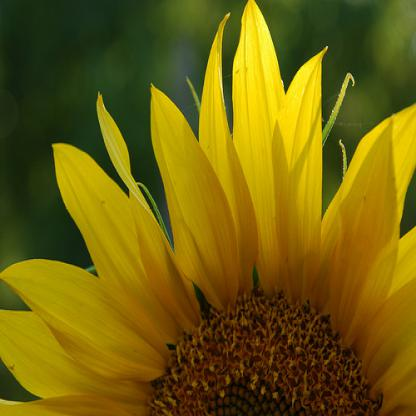SUN FLOWER: (4, 13, 416, 416)
